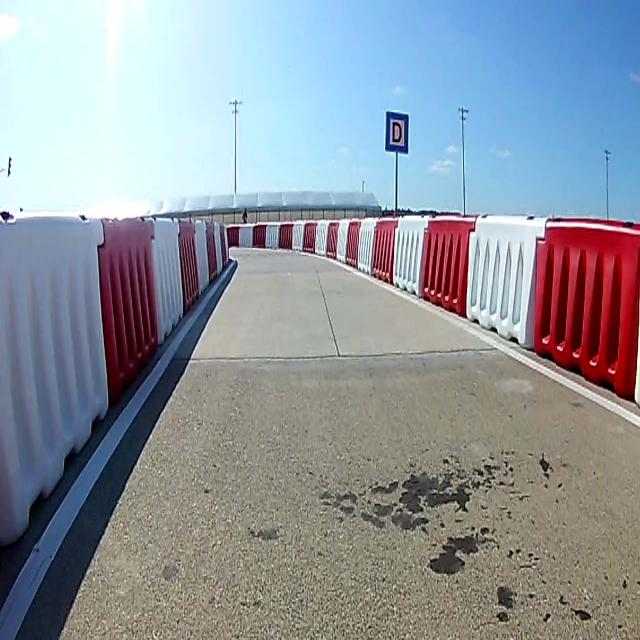durak: (384, 108, 410, 156)
